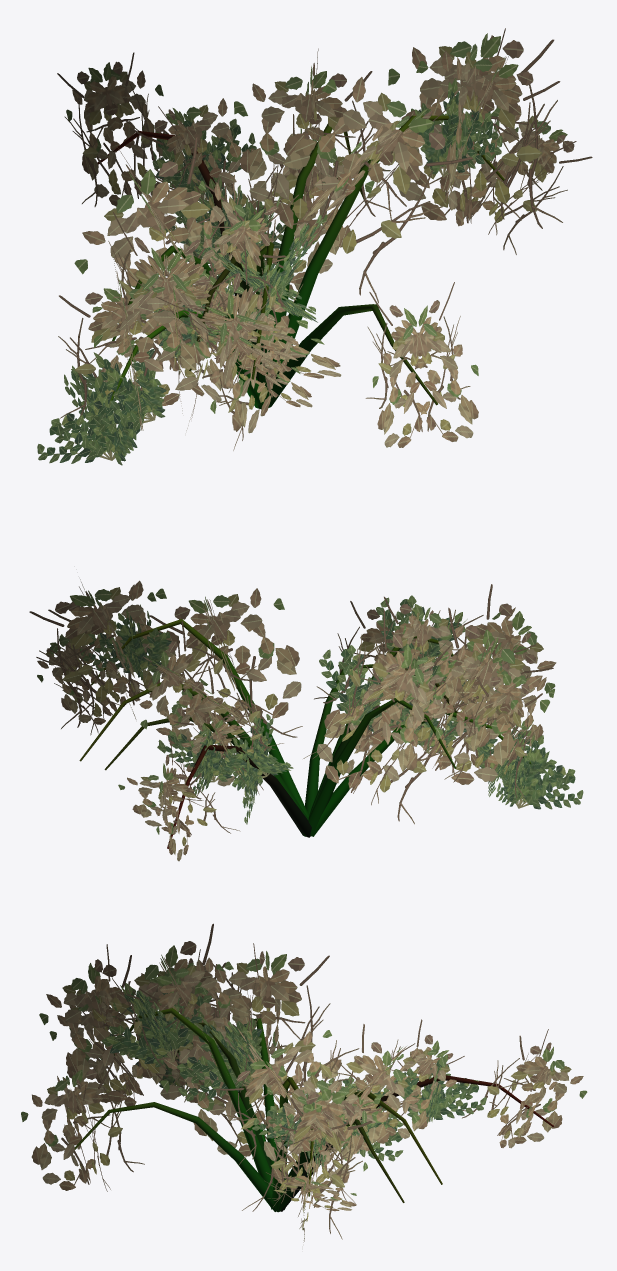
The model's file is SM_Bush_Bramble_Dry.fbx.
3 views of the same model, one above another, from view 1: azimuth 30°, elevation 25°; view 2: azimuth 150°, elevation 25°; view 3: azimuth 270°, elevation 25° (orthographic). The views are drawn at different scales.
Visible parts, largest first — view 1: SM_Bush_Bramble_Dry_LOD0; view 2: SM_Bush_Bramble_Dry_LOD0; view 3: SM_Bush_Bramble_Dry_LOD0.
Part boxes in pixels (bbox=[...]): SM_Bush_Bramble_Dry_LOD0: bbox=[37, 28, 592, 465]; SM_Bush_Bramble_Dry_LOD0: bbox=[29, 579, 583, 861]; SM_Bush_Bramble_Dry_LOD0: bbox=[21, 923, 587, 1242].
Size of what is drawn, in the model's own units: 2.46 by 1.17 by 2.43.
